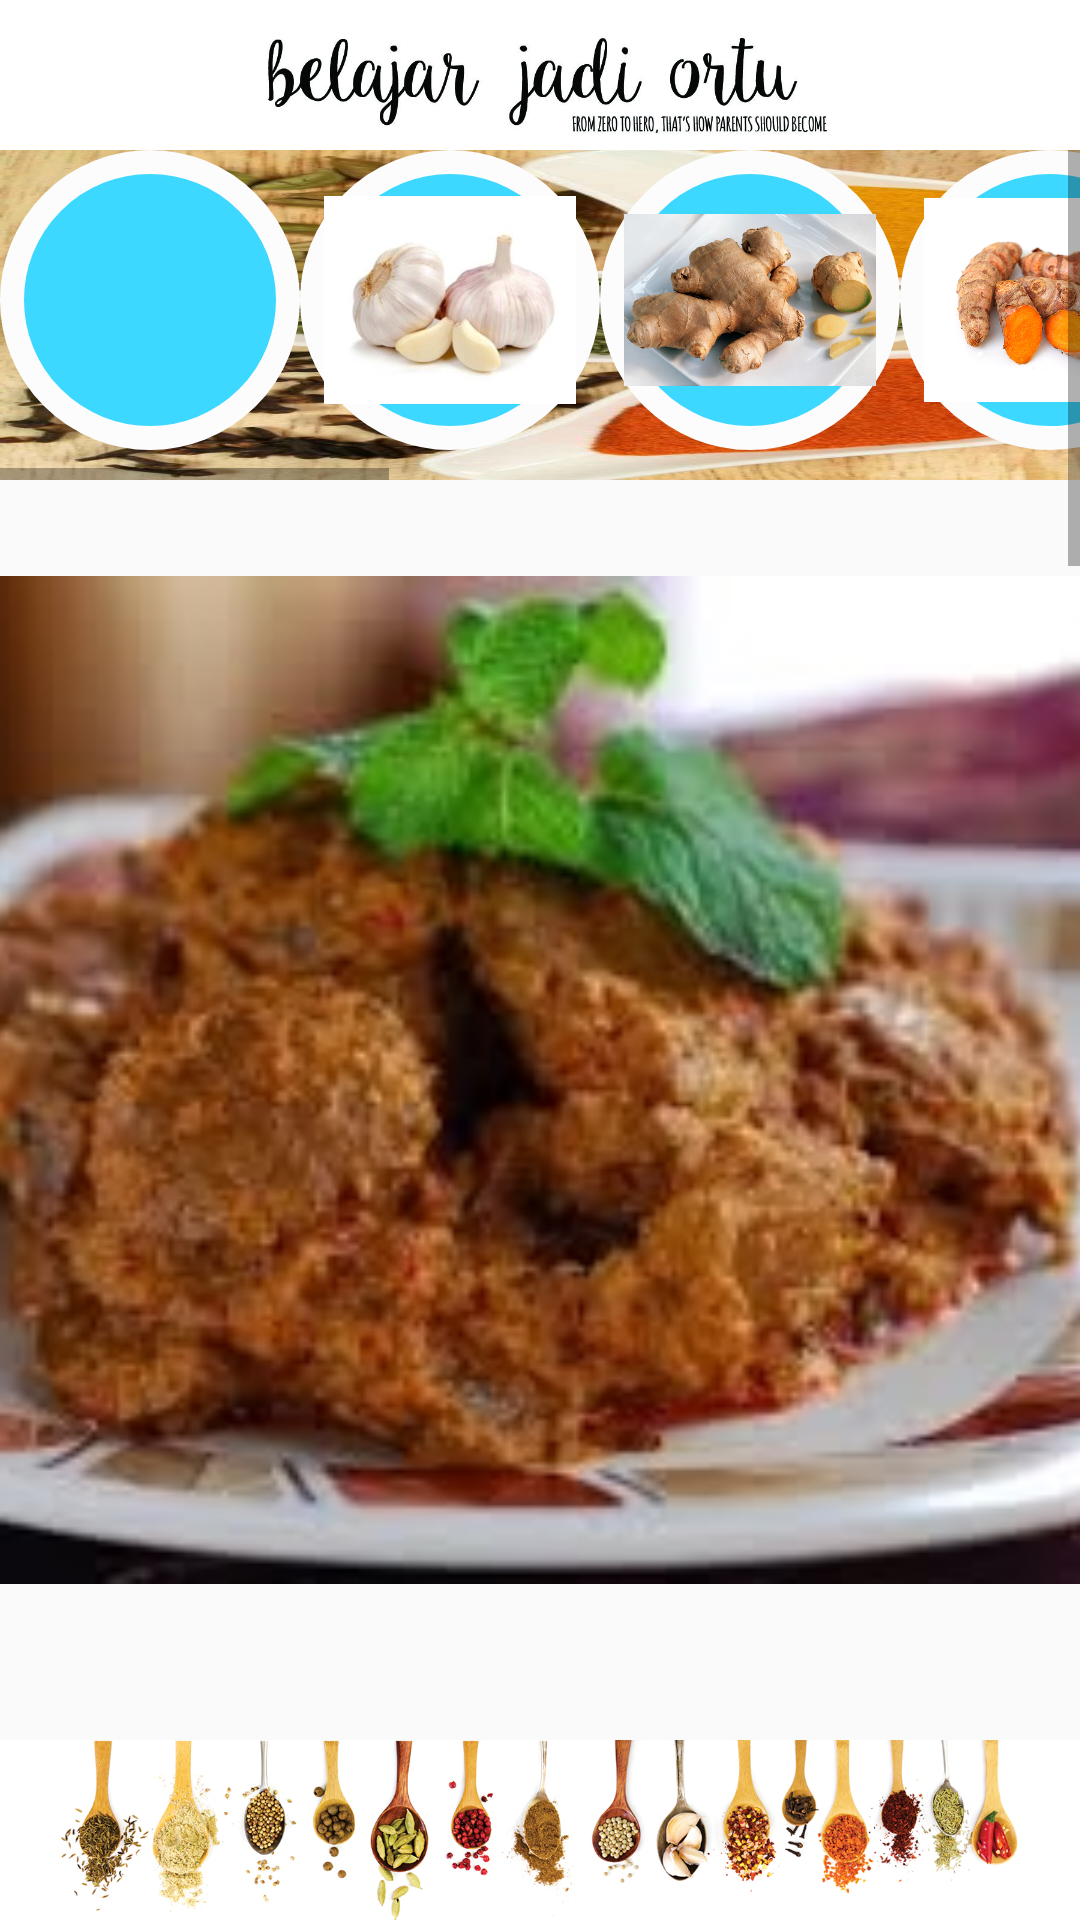

Icons on this 1080px×1920px Android screen, each with the point to tap as (x=x, y=y):
bwputih: (x=450, y=300)
jahe: (x=750, y=300)
